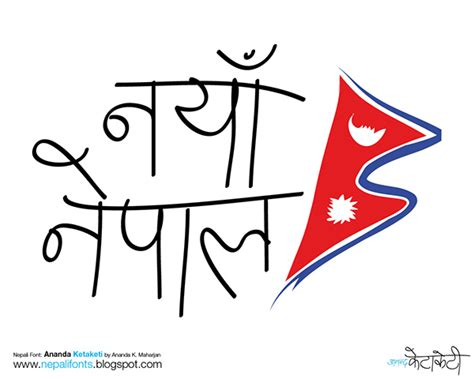text: (40, 191, 275, 323), (103, 39, 306, 186)
